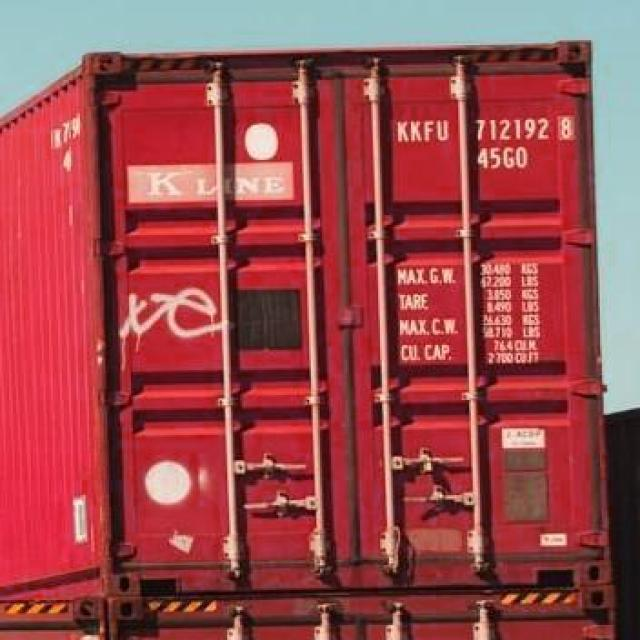ISO: (472, 143, 536, 174)
container_number: (394, 114, 574, 140)
